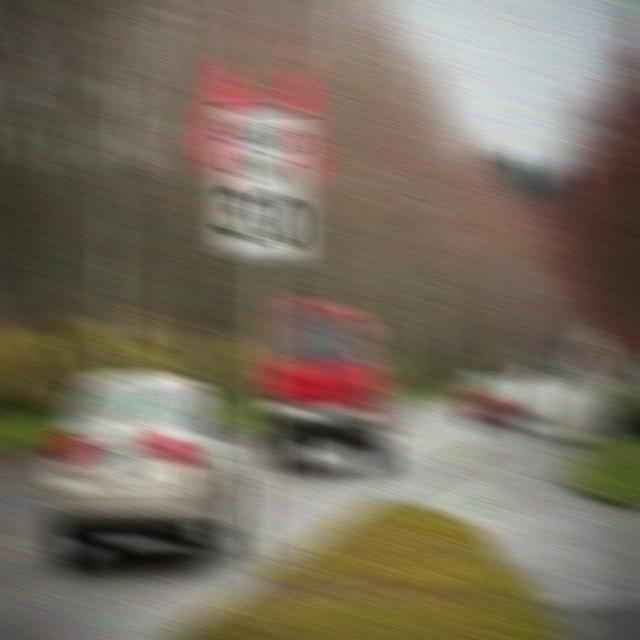speedLimit30: (212, 108, 310, 259)
